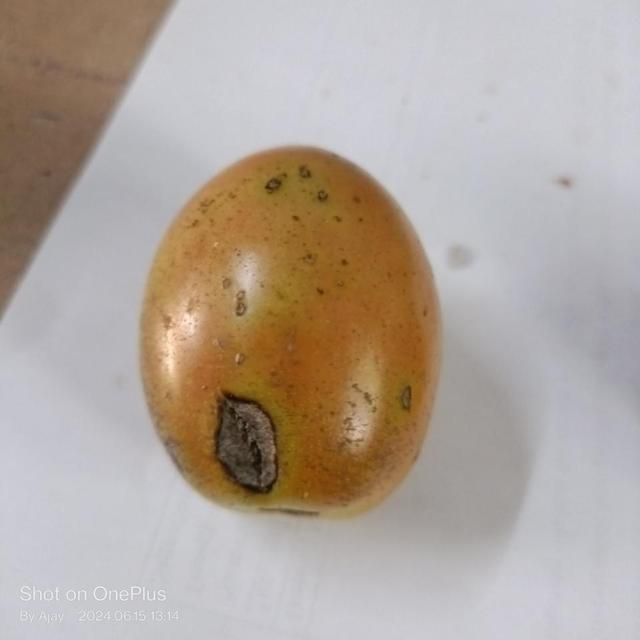Bacterial Spot Fruit: (12, 18, 272, 295)
